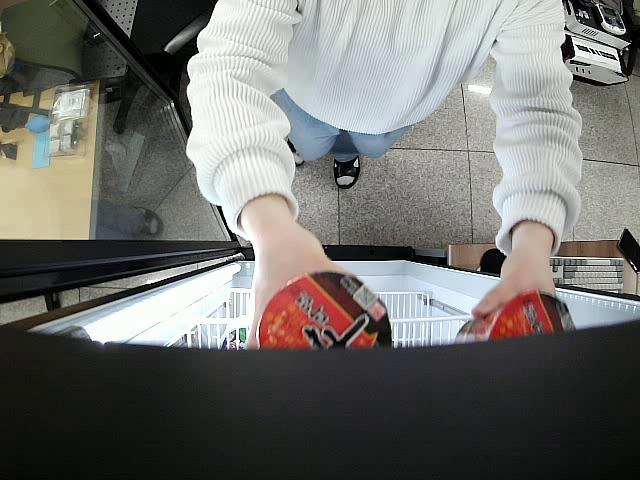00_hand: (470, 261, 558, 318)
02_shinRamen_S: (256, 269, 394, 350), (451, 288, 577, 343)
